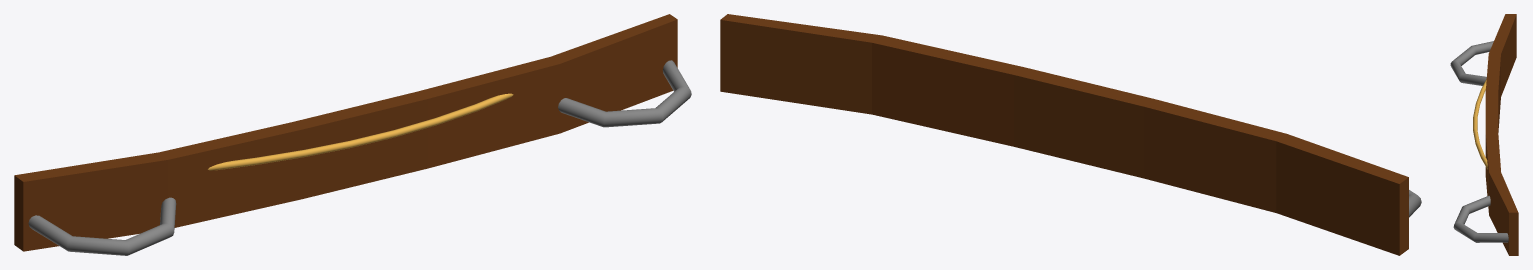
The model's file is BeltInventory.fbx.
3 views of the same model, side by side, from view 1: azimuth 30°, elevation 25°; view 2: azimuth 150°, elevation 25°; view 3: azimuth 270°, elevation 25° (orthographic). The views are drawn at different scales.
Parts seen in each view (by area): view 1: Cube, BezierCircle, BezierCircle.001, NurbsPath; view 2: Cube; view 3: Cube, BezierCircle.001, BezierCircle, NurbsPath.
Boxes of the visible parts, x1,y1,x2,y2 form: Cube: (14, 14, 677, 251); BezierCircle: (28, 197, 176, 255); BezierCircle.001: (558, 60, 691, 127); NurbsPath: (208, 93, 513, 170); Cube: (720, 14, 1408, 255); Cube: (1485, 14, 1518, 255); BezierCircle.001: (1453, 195, 1508, 242); BezierCircle: (1450, 41, 1493, 85); NurbsPath: (1473, 79, 1487, 169).
Size of the model in its own units: 1042 by 106 by 151.
